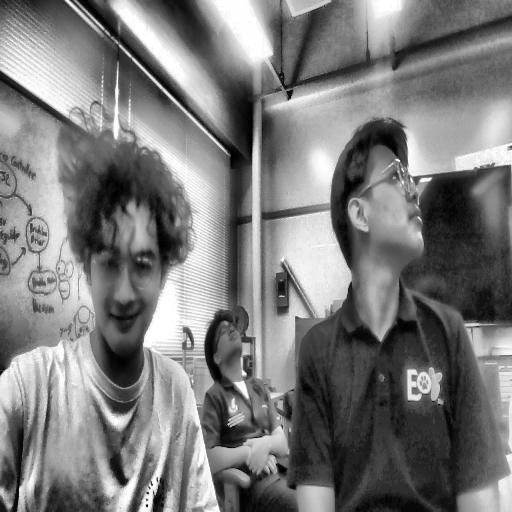Daifuku: (59, 96, 192, 374)
Not Daifuku: (331, 126, 429, 288), (202, 300, 248, 386)
